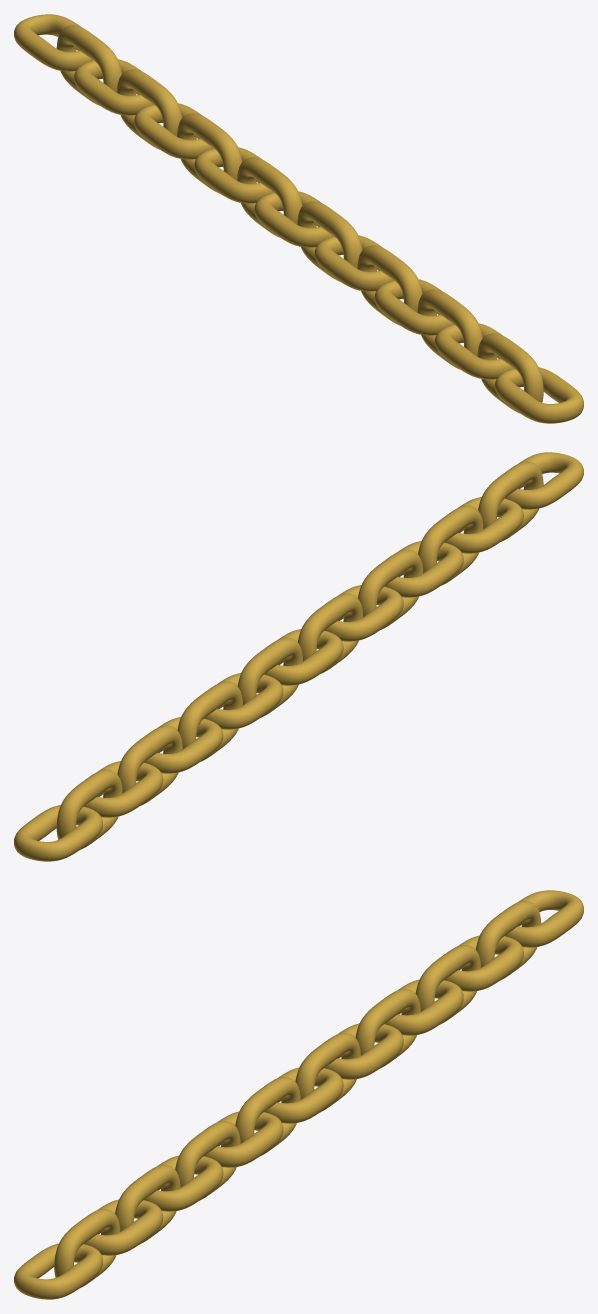
The model's file is gold chain.glb.
3 views of the same model, one above another, from view 1: azimuth 30°, elevation 25°; view 2: azimuth 150°, elevation 25°; view 3: azimuth 330°, elevation 25° (orthographic).
Parts seen in each view (by area): view 1: links.odd, links.even; view 2: links.odd, links.even; view 3: links.odd, links.even.
Boxes of the visible parts, box(x1,y1,x2,y2) form: links.odd: box(14, 14, 583, 423); links.even: box(56, 25, 543, 413); links.odd: box(14, 452, 583, 861); links.even: box(56, 461, 543, 849); links.odd: box(14, 890, 583, 1299); links.even: box(54, 901, 541, 1287).
Bounding box in the file's own units: 1.17 × 1.17 × 18.54.
